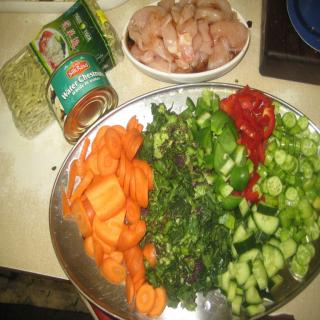Carrot: (62, 117, 166, 317), (83, 170, 128, 222)
Salad: (59, 82, 320, 318)
